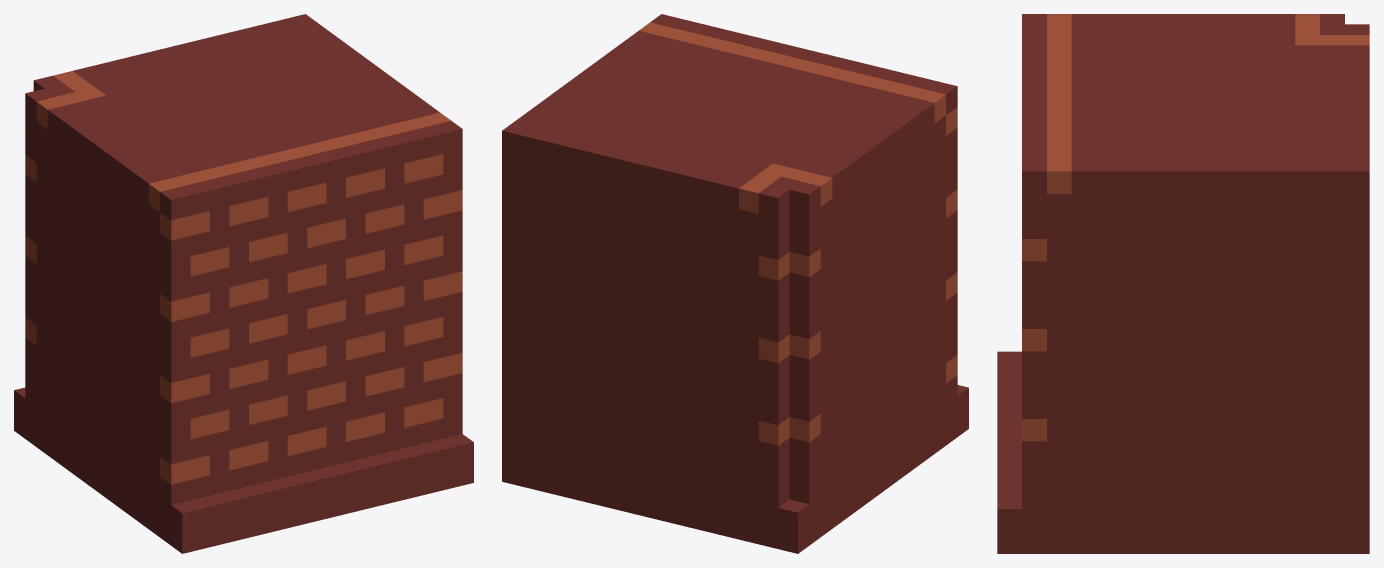
The model's file is dungeon_b_a_outer_wall_segment_d.obj.
The picture shows the model from 3 angles, left to right: view 1: azimuth 30°, elevation 25°; view 2: azimuth 150°, elevation 25°; view 3: azimuth 270°, elevation 25°; orthographic projection. The views are drawn at different scales.
Bounding box in the file's own units: 1.5 × 1.7 × 1.5.
Materials: 1 (1 with a texture image).
